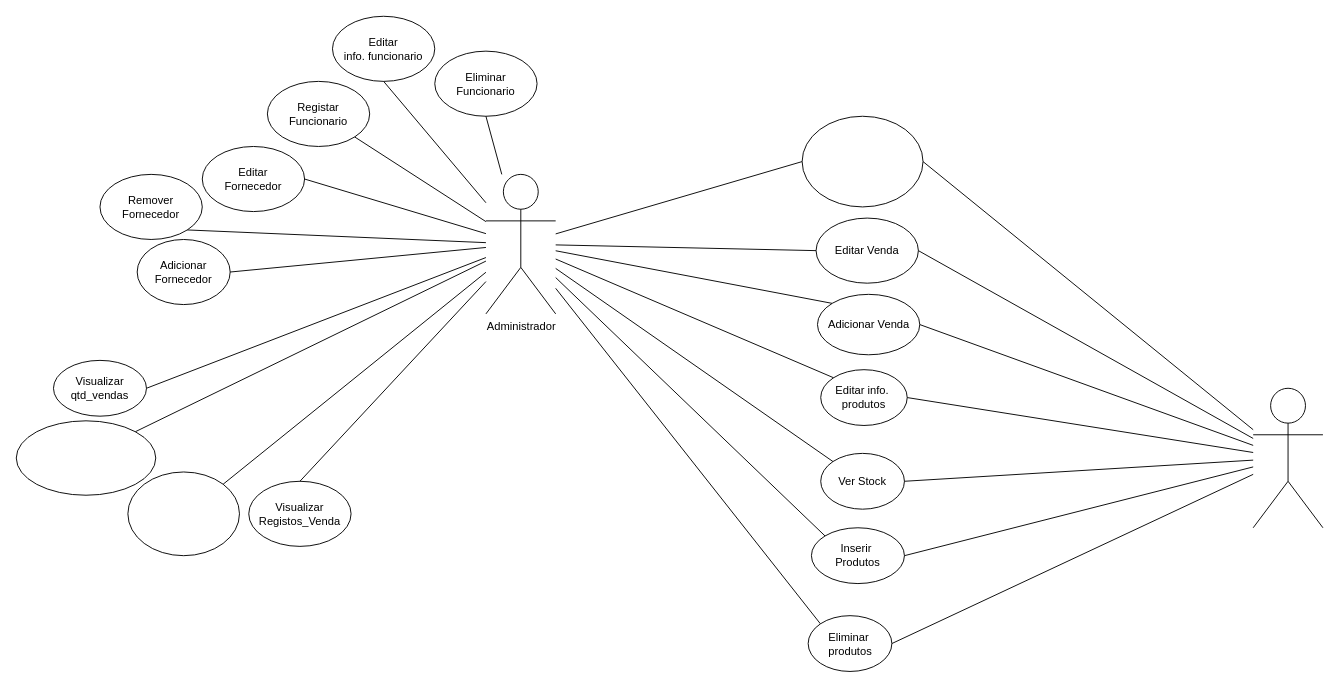
The diagram is 1339 pixels wide and 688 high, and some of its shapes have lost their labels. The shapes that lost their labels are listed below. From the top down, each one's centre as x and y in pixels, then its label:
(862,161): Visualizar_A lertas Reposição
(85,457): Visualizar artigos_mais_vendidos
(1287,457): Funcionário
(183,513): Visualizar balanco_financeiro
